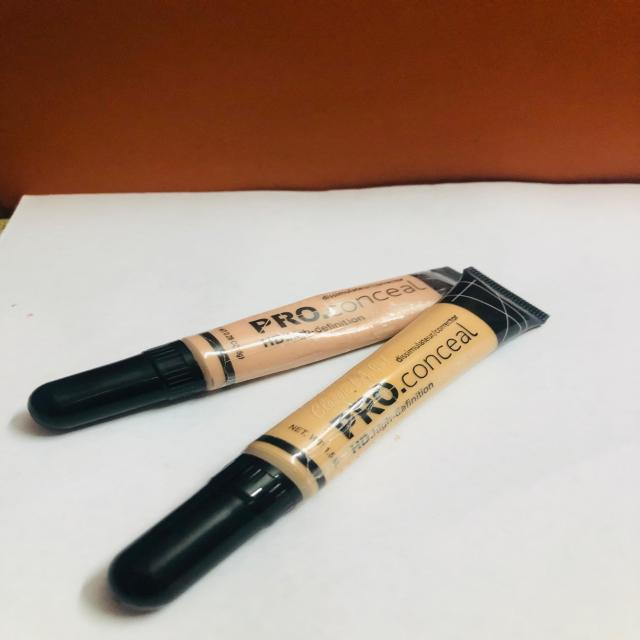concealer: (13, 234, 570, 621)
